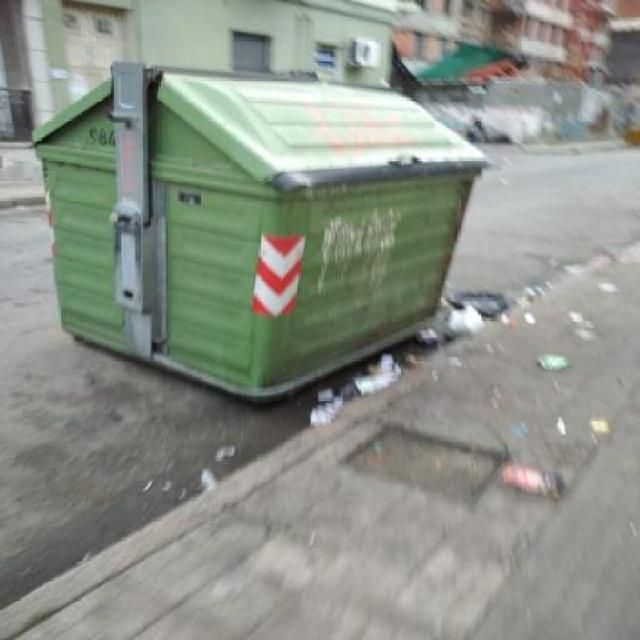garbage: (297, 303, 593, 434), (489, 451, 578, 522)
